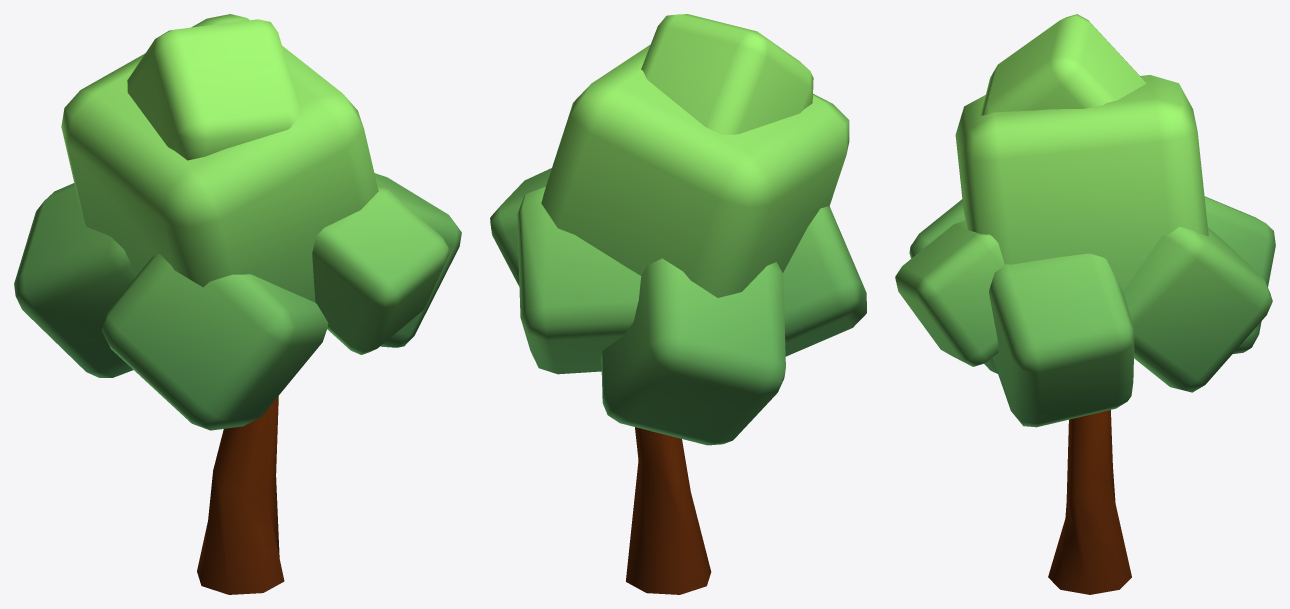
Rendered from TreeSquare.fbx.
The picture shows the model from 3 angles, left to right: view 1: azimuth 30°, elevation 25°; view 2: azimuth 150°, elevation 25°; view 3: azimuth 270°, elevation 25°; orthographic projection. The views are drawn at different scales.
Parts seen in each view (by area): view 1: TreeSquare; view 2: TreeSquare; view 3: TreeSquare.
Boxes of the visible parts, x1,y1,x2,y2 form: TreeSquare: (14, 14, 461, 594); TreeSquare: (490, 14, 866, 594); TreeSquare: (895, 14, 1275, 594).
Bounding box in the file's own units: 840 × 1281 × 837.
